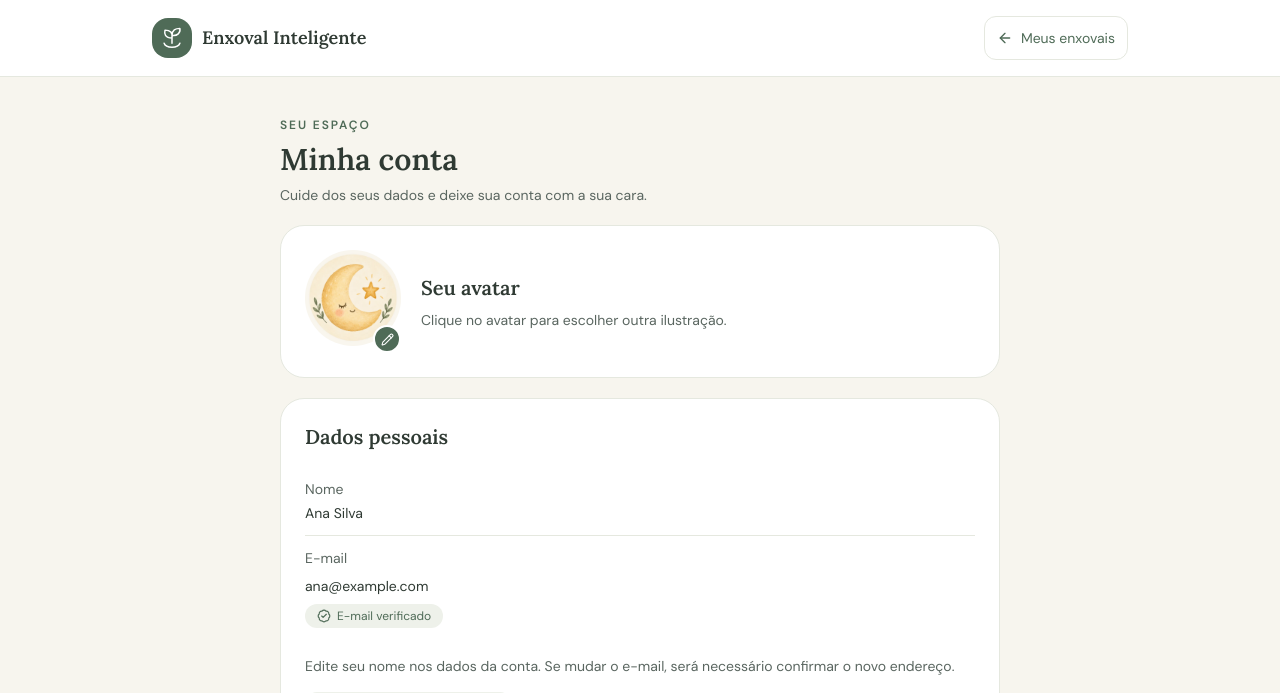
Test: Minha conta › mantém o modal aberto e a escolha anterior quando salvar falha
This screenshot has width=1280, height=693.
Click the button named "Alterar avatar": (353, 302) [305,250,401,353]
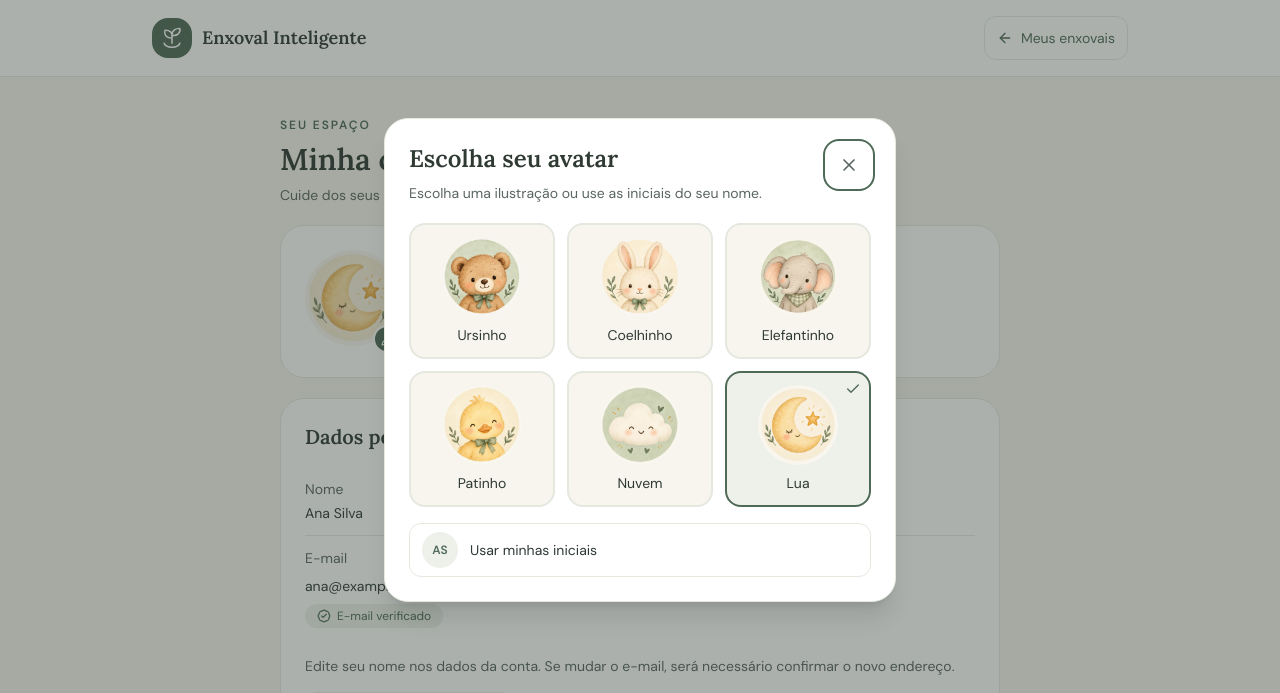
Click the button with aria-label "Escolher Patinho": (482, 439) [409,371,555,507]
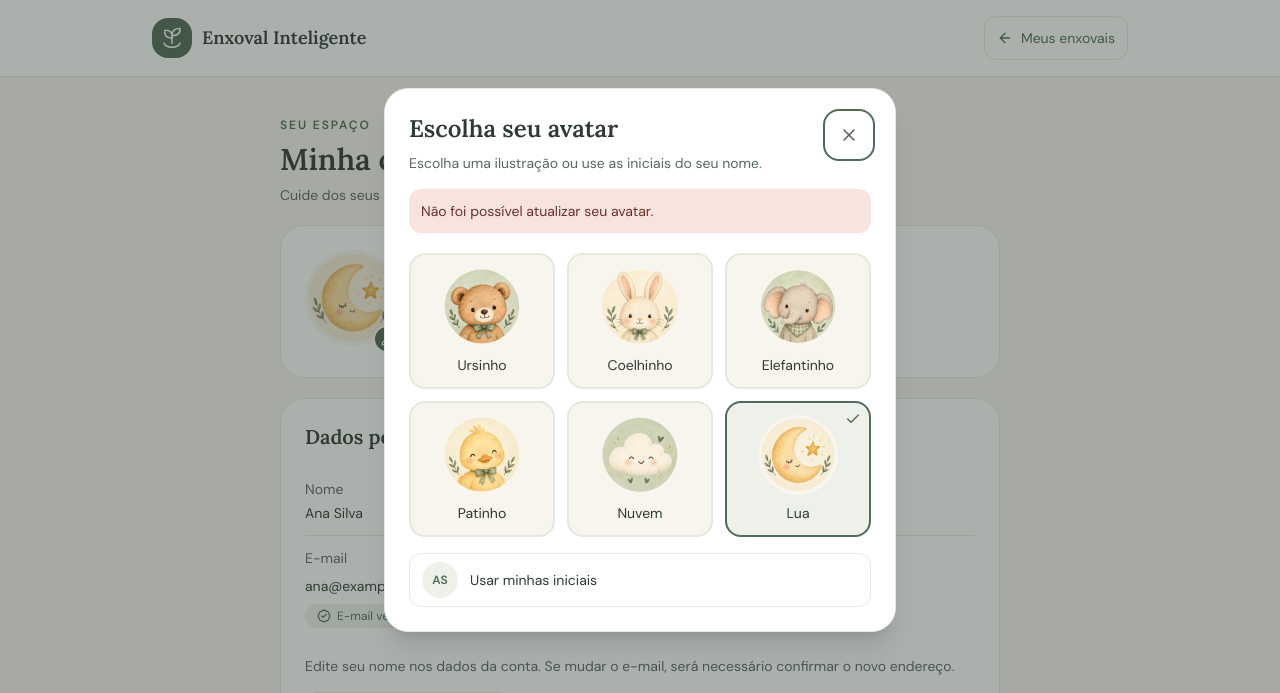
Result: the dialog is shown at [384,88,896,632]
Result: the message reads "Não foi possível atualizar seu avatar." at [421,202,653,220]
